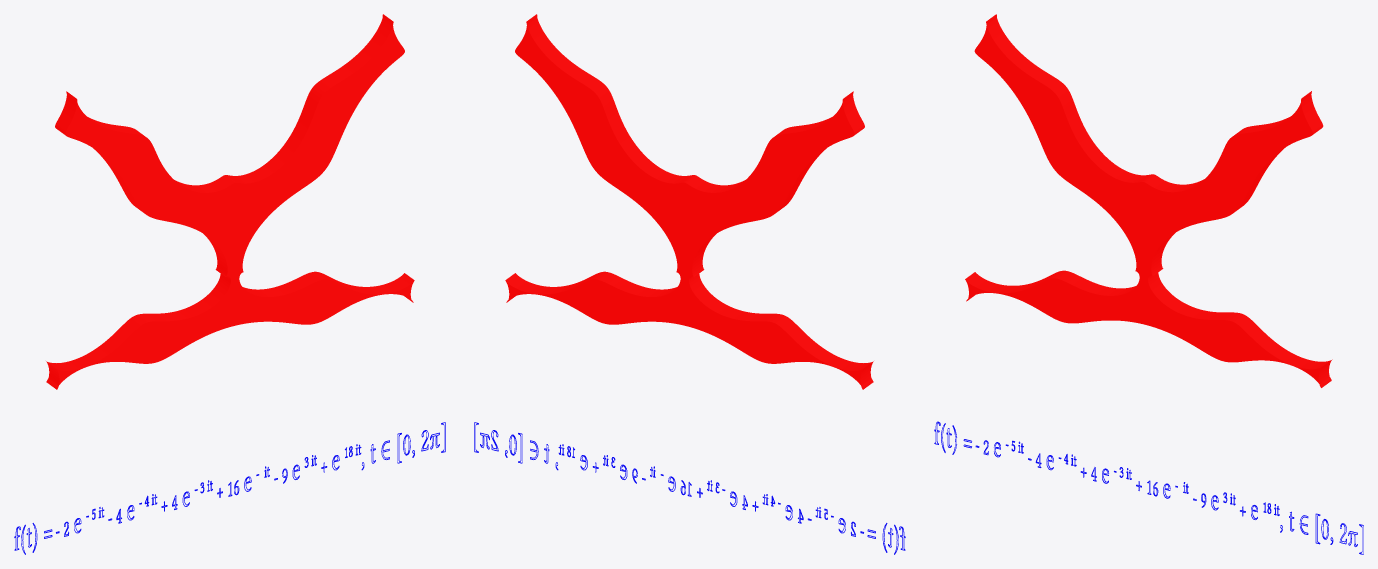
File: SimpleBeauty45.glb
The picture shows the model from 3 angles, left to right: view 1: azimuth 30°, elevation 25°; view 2: azimuth 150°, elevation 25°; view 3: azimuth 330°, elevation 25°; orthographic projection.
Size of the model in its own units: 1.2 by 1.19 by 0.05.
